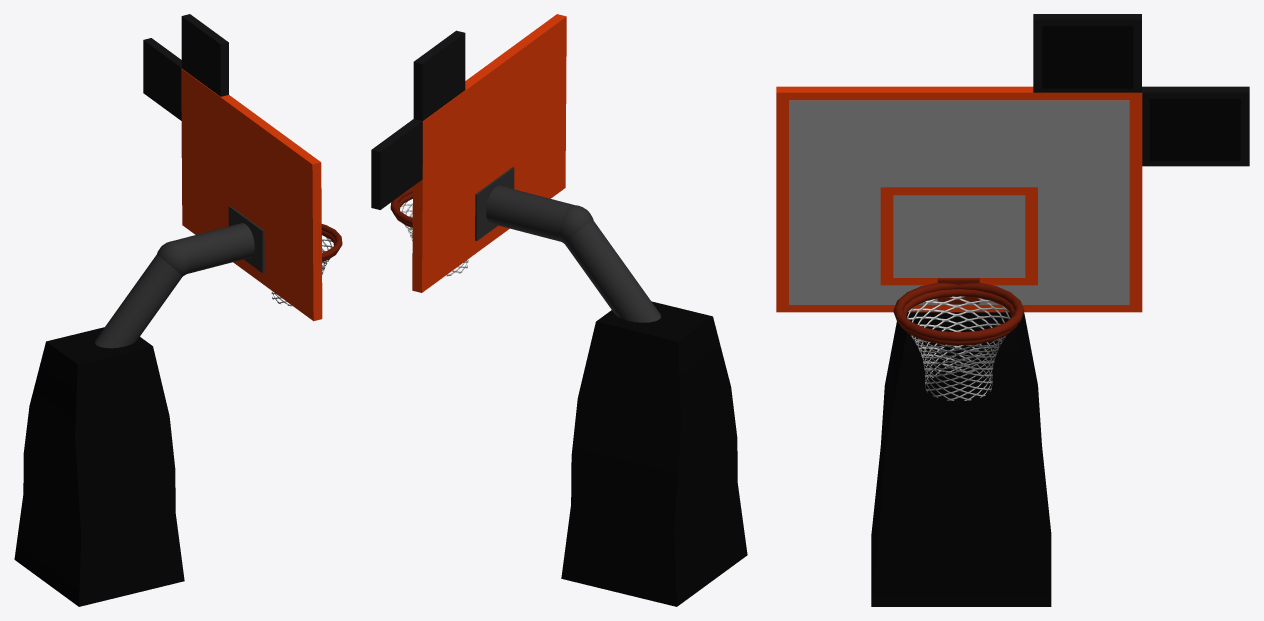
File: newrim.fbx
3 views of the same model, side by side, from view 1: azimuth 30°, elevation 25°; view 2: azimuth 150°, elevation 25°; view 3: azimuth 270°, elevation 25° (orthographic). The views are drawn at different scales.
Visible parts, largest first — view 1: pCube6, pCube1, pCylinder3, pasted__pasted__pCube8, pCylinder2, pasted__pCube8, pCube7, pSphere1; view 2: pCube6, pCube1, pCylinder3, pasted__pasted__pCube8, pasted__pCube8, pCylinder2, pCube7, pSphere1; view 3: pCube2, pCube6, pCube1, pCube4, pasted__pCube9, pasted__pasted__pCube9, pCube3, pCylinder1, pasted__pCube8, pasted__pasted__pCube8, pTorus1, pTorus2.
Part boxes in pixels (x1,y1,x2,y2): pCube6: (14,327,184,606); pCube1: (181,68,322,321); pCylinder3: (95,254,182,348); pasted__pasted__pCube8: (181,14,228,96); pCylinder2: (173,223,254,273); pasted__pCube8: (143,38,181,120); pCube7: (228,206,264,273); pSphere1: (157,241,188,276); pCube6: (561,301,747,606); pCube1: (412,14,566,292); pCylinder3: (565,220,660,322); pasted__pasted__pCube8: (413,30,465,120); pasted__pCube8: (371,119,422,209); pCylinder2: (486,185,574,241); pCube7: (475,167,514,240); pSphere1: (558,205,593,243); pCube2: (789,100,1129,304); pCube6: (871,312,1051,606); pCube1: (776,86,1142,312); pCube4: (893,195,1025,277); pasted__pCube9: (1149,98,1240,161); pasted__pasted__pCube9: (1042,25,1133,88); pCube3: (880,187,1037,285); pCylinder1: (907,296,1010,400); pasted__pCube8: (1141,86,1249,166); pasted__pasted__pCube8: (1033,14,1141,92); pTorus1: (893,282,1024,341); pTorus2: (900,289,1017,345).
Size of the model in its own units: 8.9 by 13.87 by 9.06.
9 materials, 1 textured.
